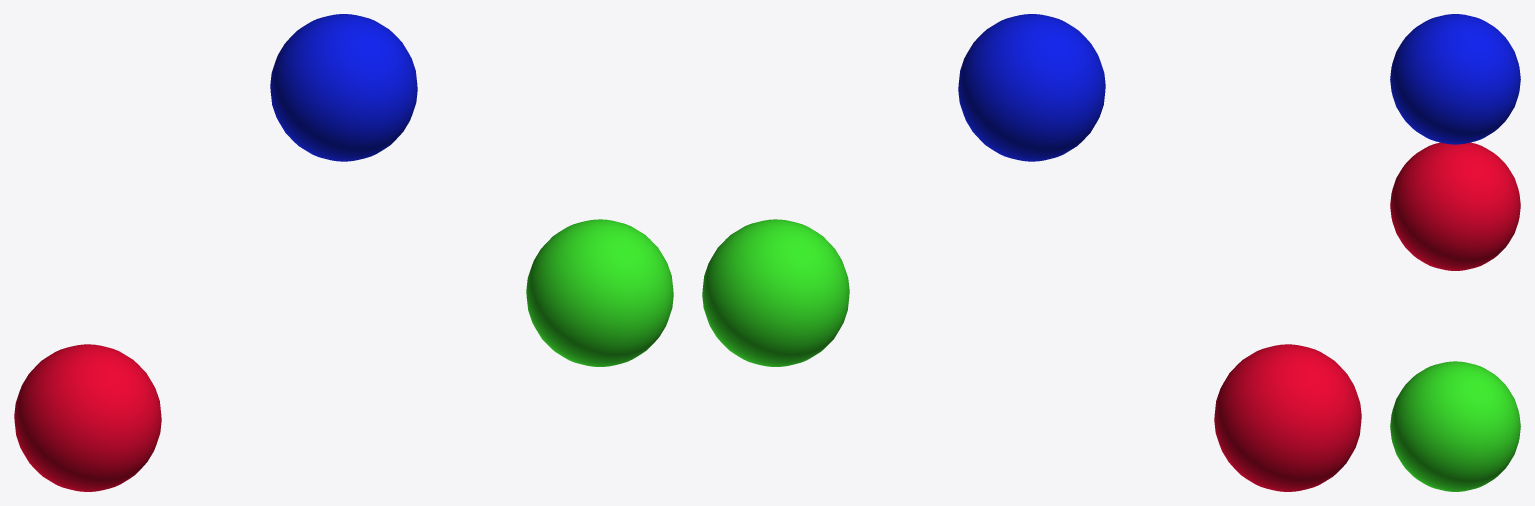
Rendered from esferas.glb.
3 renders of one model, left to right at view 1: azimuth 30°, elevation 25°; view 2: azimuth 150°, elevation 25°; view 3: azimuth 270°, elevation 25°, orthographic. The views are drawn at different scales.
Visible parts, largest first — view 1: Sphere, Sphere.001, Sphere.002; view 2: Sphere, Sphere.001, Sphere.002; view 3: Sphere.001, Sphere.002, Sphere.
Part boxes in pixels (x1,y1,x2,y2): Sphere: (14,344,161,491); Sphere.001: (270,14,417,161); Sphere.002: (526,219,673,366); Sphere: (1214,344,1361,491); Sphere.001: (958,14,1105,161); Sphere.002: (702,219,849,366); Sphere.001: (1390,14,1520,144); Sphere.002: (1390,361,1520,491); Sphere: (1390,142,1520,270).
Size of the model in its own units: 10 by 6 by 2.
